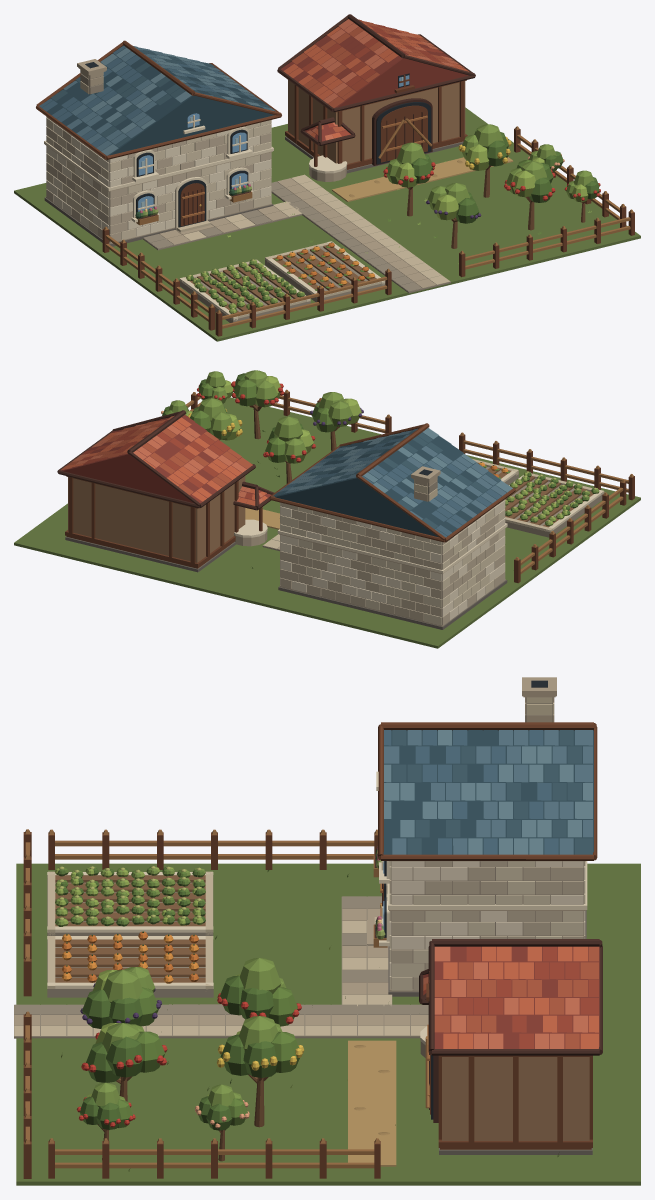
The model's file is farm-nivel-5.glb.
3 views of the same model, one above another, from view 1: azimuth 30°, elevation 25°; view 2: azimuth 150°, elevation 25°; view 3: azimuth 270°, elevation 25° (orthographic). The views are drawn at different scales.
Parts seen in each view (by area): view 1: Fazenda 05 #677a42, Fazenda 05 #70432c, Fazenda 05 #344d58, Fazenda 05 #9b8f7c, Fazenda 05 #e6d8be, Fazenda 05 #9f7145, Fazenda 05 #c0b198, Fazenda 05 #d5c7aa, Fazenda 05 #9d7858, Fazenda 05 #853e33, Fazenda 05 #b4a38a, Fazenda 05 #e6d7ba (+24 smaller); view 2: Fazenda 05 #677a42, Fazenda 05 #9d7858, Fazenda 05 #c0b198, Fazenda 05 #70432c, Fazenda 05 #344d58, Fazenda 05 #d5c7aa, Fazenda 05 #e6d8be, Fazenda 05 #853e33, Fazenda 05 #7a9448, Fazenda 05 #9f7145, Fazenda 05 #55717e, Fazenda 05 #4c3028 (+20 smaller); view 3: Fazenda 05 #677a42, Fazenda 05 #70432c, Fazenda 05 #9d7858, Fazenda 05 #567337, Fazenda 05 #9f7145, Fazenda 05 #9b8f7c, Fazenda 05 #344d58, Fazenda 05 #886345, Fazenda 05 #cebea0, Fazenda 05 #7a9448, Fazenda 05 #b4a38a, Fazenda 05 #637f89 (+23 smaller).
Boxes of the visible parts, x1,y1,x2,y2 form: Fazenda 05 #677a42: (14,107,640,341); Fazenda 05 #70432c: (36,40,634,336); Fazenda 05 #344d58: (42,47,274,155); Fazenda 05 #9b8f7c: (80,73,450,322); Fazenda 05 #e6d8be: (46,120,271,236); Fazenda 05 #9f7145: (104,118,633,328); Fazenda 05 #c0b198: (46,116,271,243); Fazenda 05 #d5c7aa: (46,117,271,239); Fazenda 05 #9d7858: (288,80,465,163); Fazenda 05 #853e33: (281,21,468,141); Fazenda 05 #b4a38a: (46,59,462,288); Fazenda 05 #e6d7ba: (44,115,385,320); Fazenda 05 #677a42: (14,397,640,648); Fazenda 05 #9d7858: (68,476,245,562); Fazenda 05 #c0b198: (280,499,505,625); Fazenda 05 #70432c: (65,391,634,583); Fazenda 05 #344d58: (274,432,506,537); Fazenda 05 #d5c7aa: (280,507,505,625); Fazenda 05 #e6d8be: (280,500,505,620); Fazenda 05 #853e33: (62,415,271,504); Fazenda 05 #7a9448: (168,370,599,526); Fazenda 05 #9f7145: (186,389,633,573); Fazenda 05 #55717e: (279,430,506,519); Fazenda 05 #4c3028: (57,410,274,510); Fazenda 05 #677a42: (16,863,640,1185); Fazenda 05 #70432c: (23,722,597,1178); Fazenda 05 #9d7858: (442,1057,589,1140); Fazenda 05 #567337: (57,866,277,1130); Fazenda 05 #9f7145: (25,829,429,1168); Fazenda 05 #9b8f7c: (14,714,526,1038); Fazenda 05 #344d58: (383,730,593,854); Fazenda 05 #886345: (55,875,205,982); Fazenda 05 #cebea0: (14,697,554,1036); Fazenda 05 #7a9448: (55,867,559,1171); Fazenda 05 #b4a38a: (14,677,590,1149); Fazenda 05 #637f89: (384,730,592,854).
Bounding box in the file's own units: 17.81 × 5.67 × 14.84.
